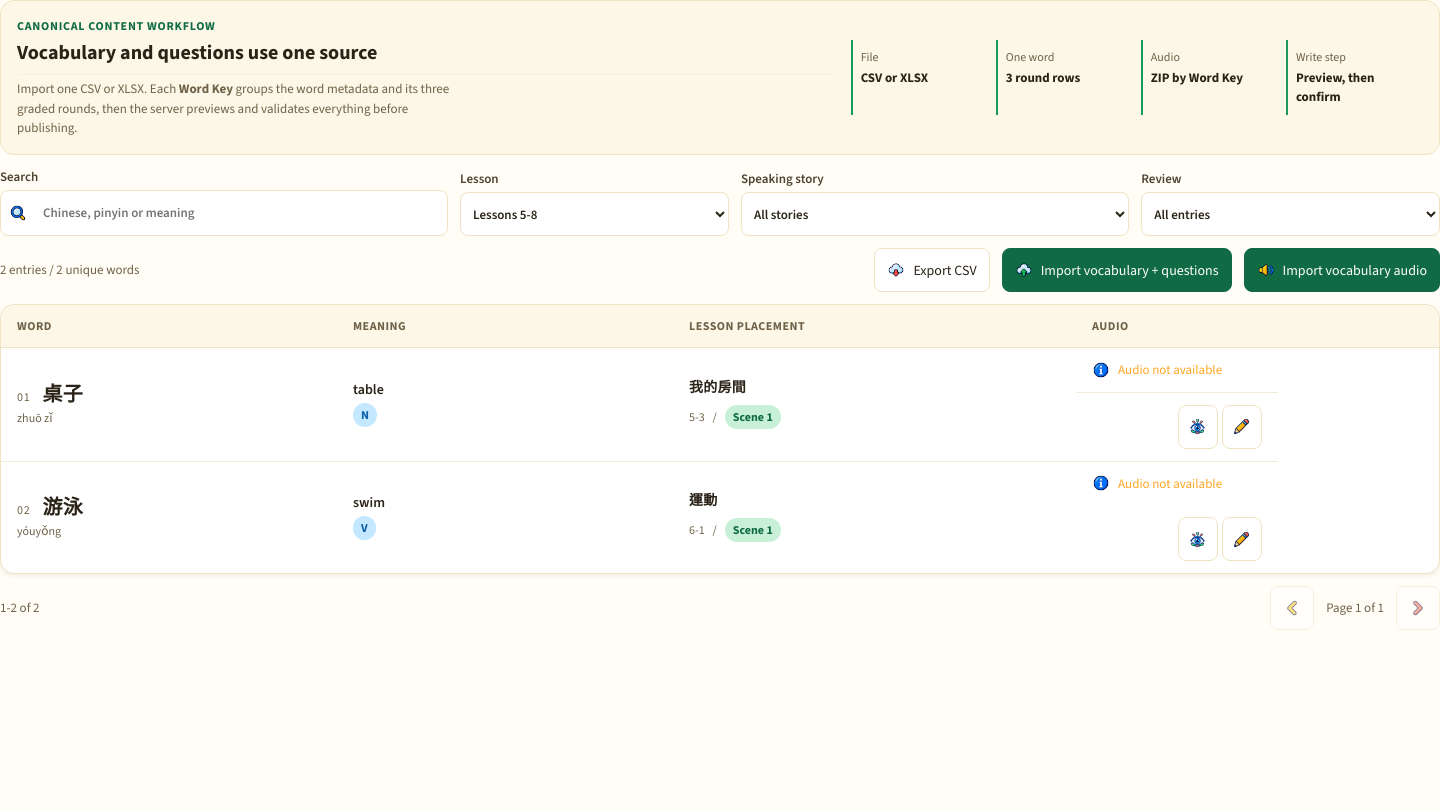
Test: Admin vocabulary page › retains edits after a conflict and never silently applies them
Step 1. Click the button named "Edit 桌子" → (1242, 426), box [1222,404,1262,448]
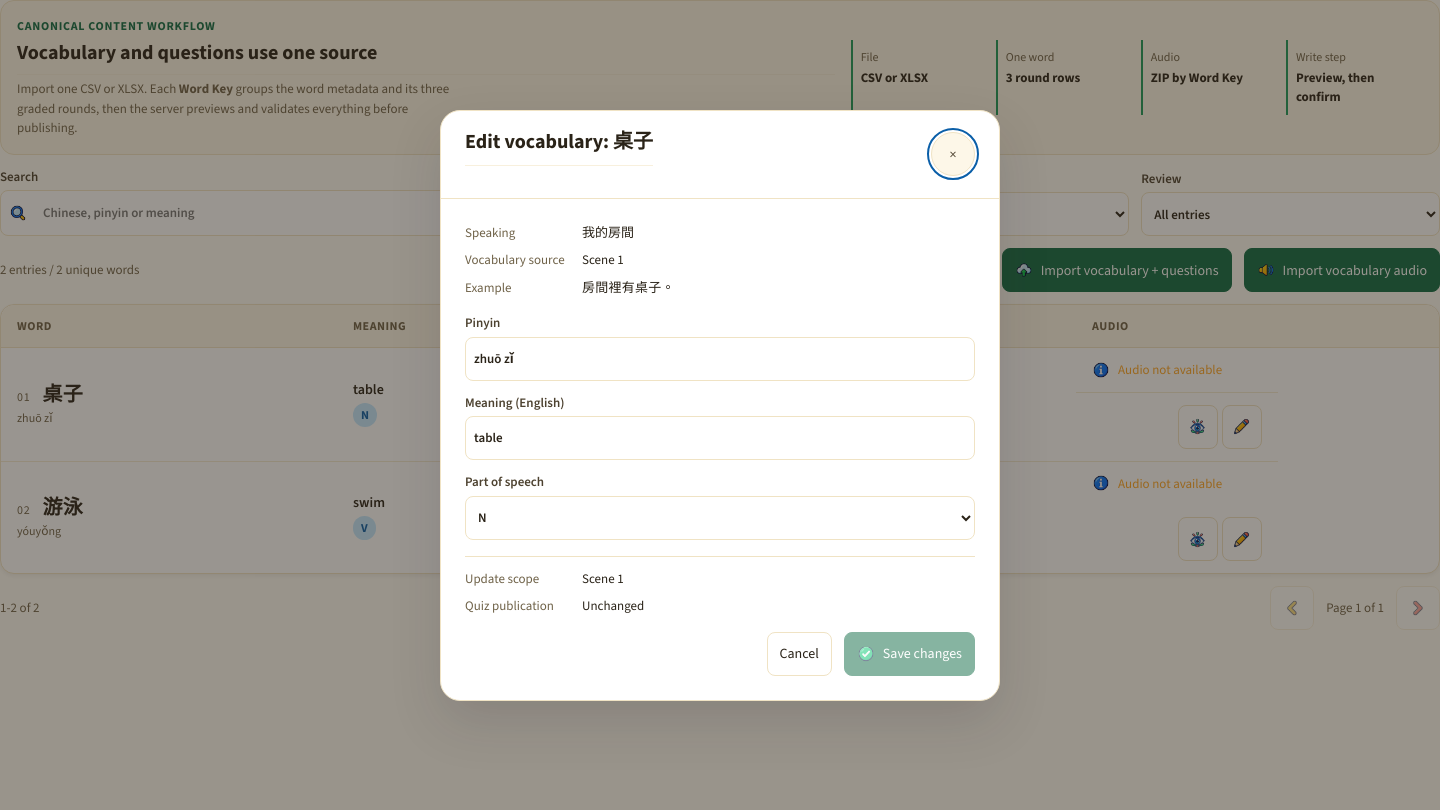
Step 2. Type " revised" into the field labelled "Pinyin" → (720, 358), box [465,336,975,380]
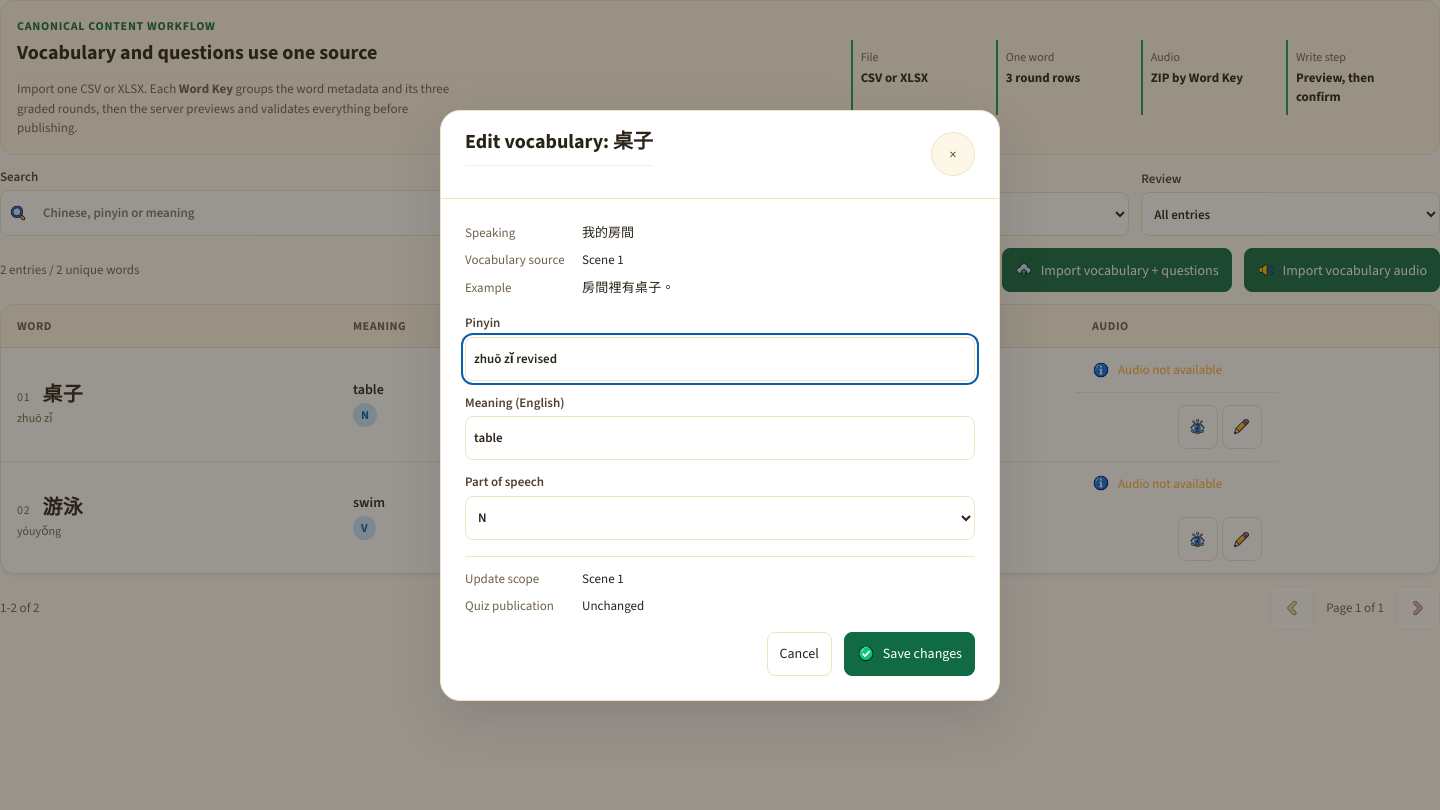
Step 3. Click the button "Save changes" → (909, 654), box [844,632,975,676]
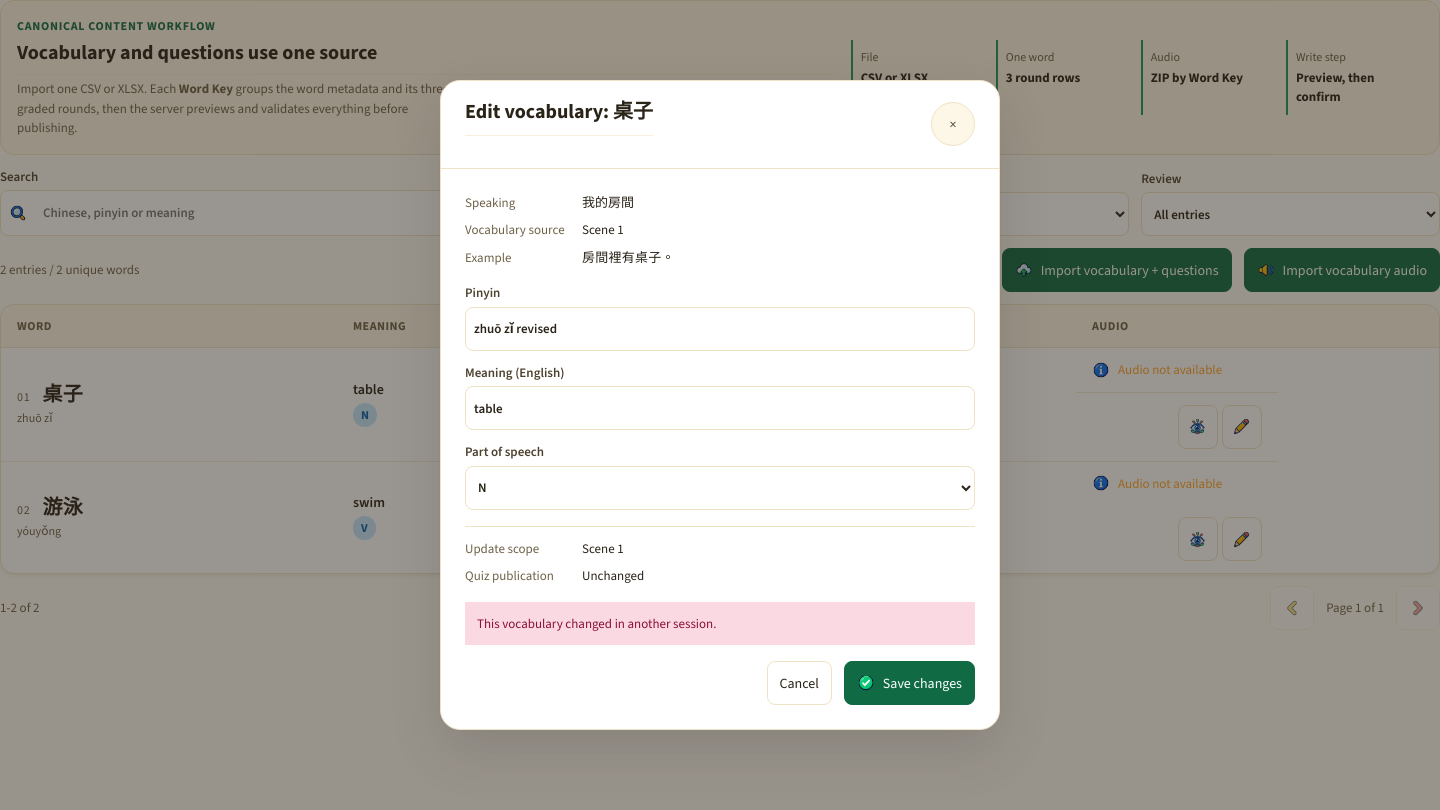
Expected: the field labelled "Pinyin" holds "zhuō zǐ revised", [465,307,975,351]
Expected: the button "Save changes" is enabled, [844,661,975,705]
Expected: the message shows "another session", [477,615,716,632]
